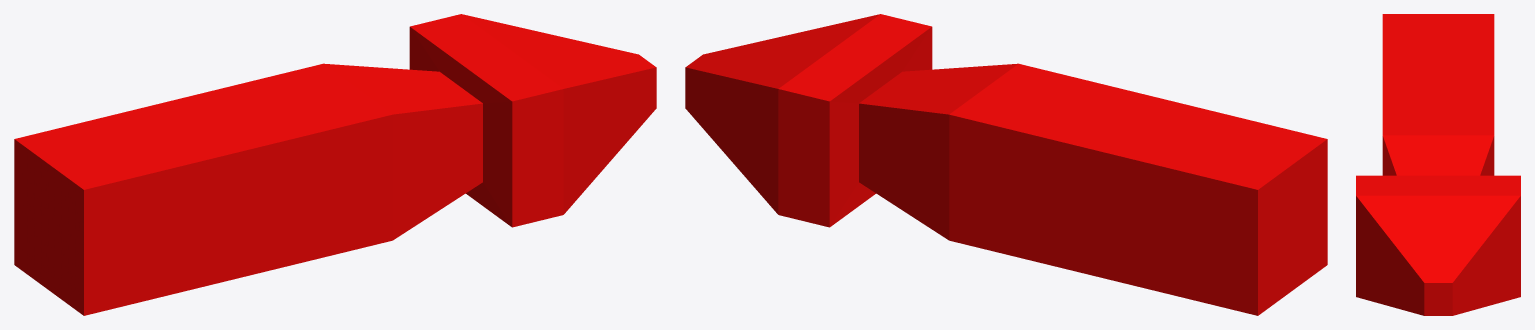
File: arrow.glb
The picture shows the model from 3 angles, left to right: view 1: azimuth 30°, elevation 25°; view 2: azimuth 150°, elevation 25°; view 3: azimuth 270°, elevation 25°; orthographic projection. The views are drawn at different scales.
Visible parts, largest first — view 1: Cube; view 2: Cube; view 3: Cube.
Part boxes in pixels (x1,y1,x2,y2): Cube: (14,14,656,315); Cube: (685,14,1327,315); Cube: (1356,14,1520,315).
Bounding box in the file's own units: 9.94 × 2 × 2.95.
1 material, 1 textured.
